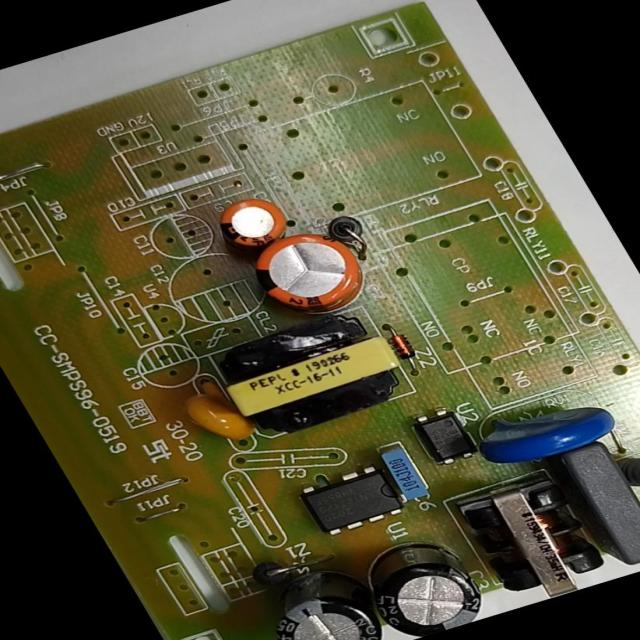Cap1: (233, 218, 387, 326)
Cap2: (202, 185, 306, 258)
Cap3: (340, 527, 500, 640)
Cap4: (242, 560, 394, 639)
MOSFET: (290, 456, 412, 542)
Mov: (454, 378, 631, 478)
Resistor: (608, 436, 639, 500)
Transformer: (198, 301, 420, 443), (434, 464, 620, 612)
